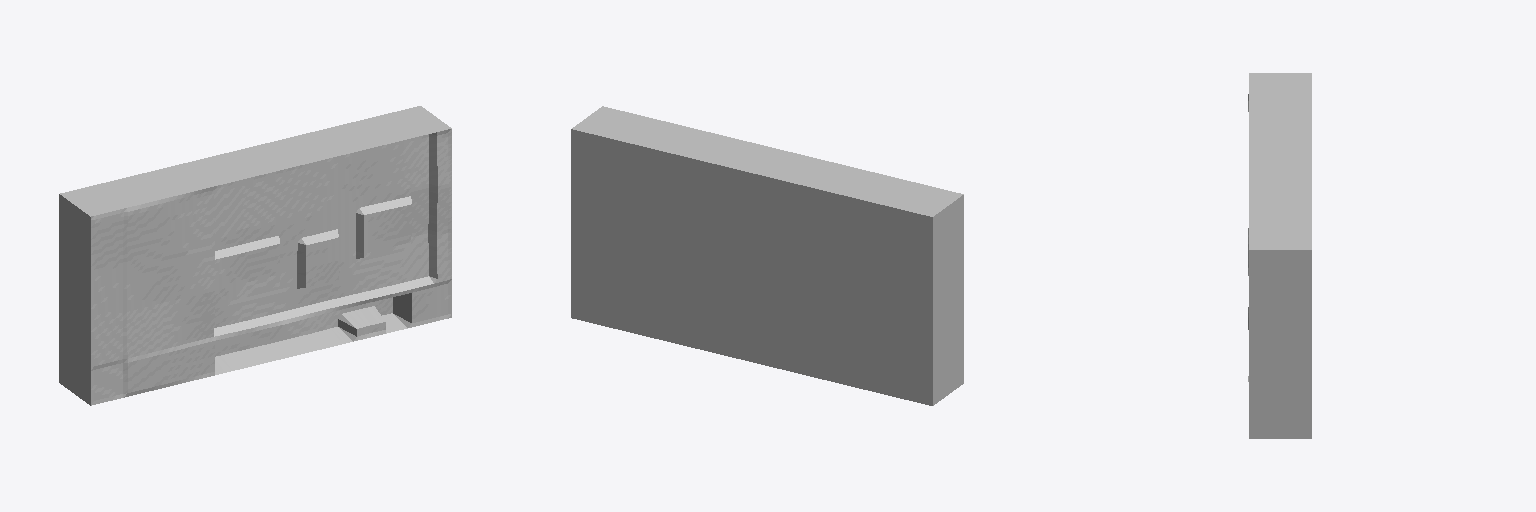
The model's file is rectangular_prism_bumps_8_9.obj.
The picture shows the model from 3 angles: view 1: azimuth 30°, elevation 25°; view 2: azimuth 150°, elevation 25°; view 3: azimuth 270°, elevation 25°; orthographic projection.
Size of the model in its own units: 10 by 5 by 1.53.